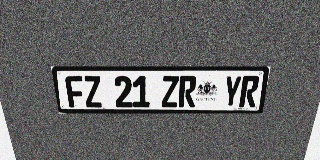1: (132, 76, 150, 107)
2: (114, 76, 133, 107)
F: (65, 76, 86, 107)
R: (239, 76, 260, 107), (178, 76, 197, 107)
Y: (222, 76, 242, 107)
Z: (83, 76, 103, 107), (162, 76, 179, 107)
